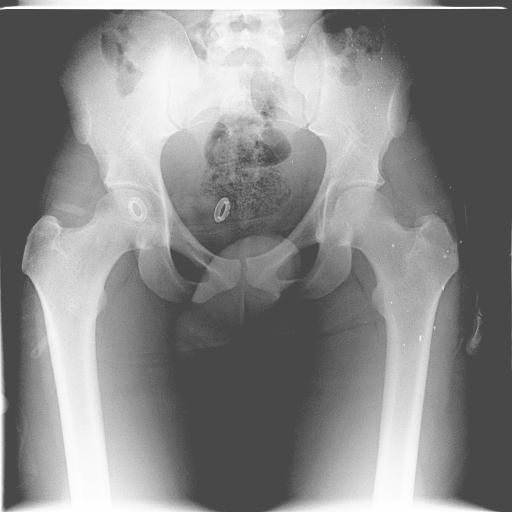normal: (22, 189, 162, 454), (331, 187, 459, 451)
